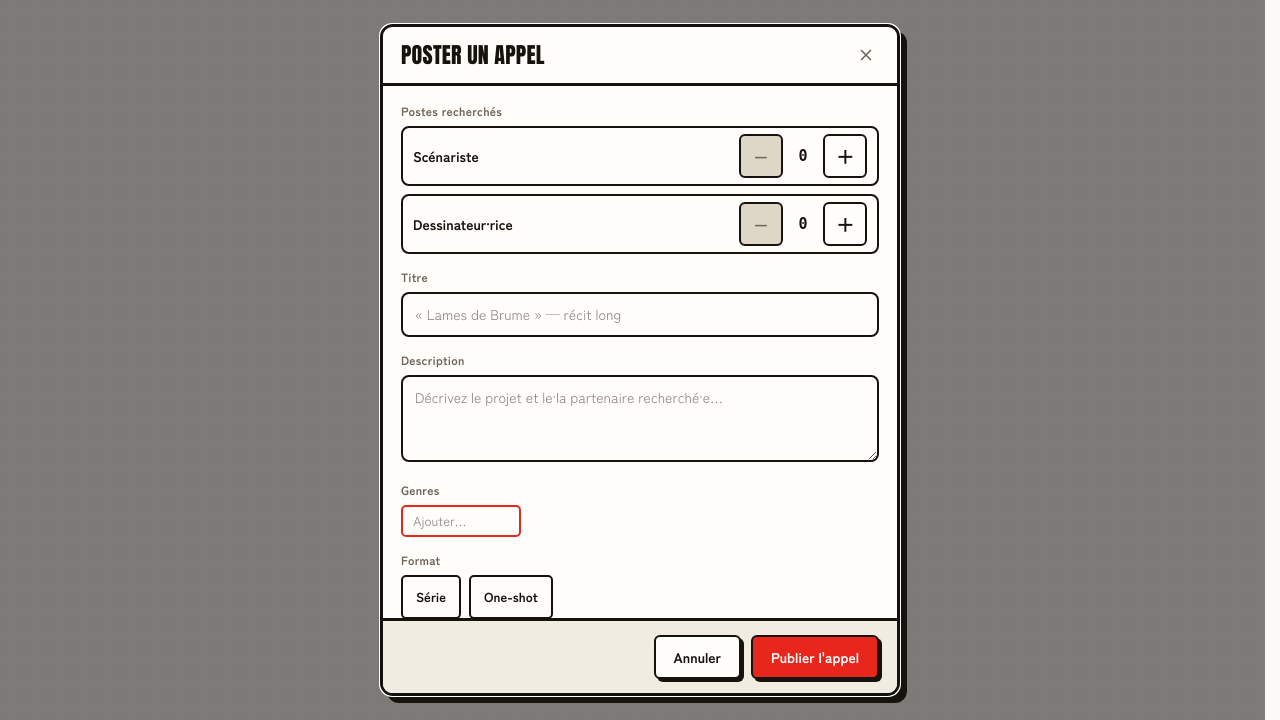
it: PostCallModal › validates required fields before submitting
Click the button "Publier l'appel".
click(815, 657)  # box [751,635,879,679]
(page scrolled)
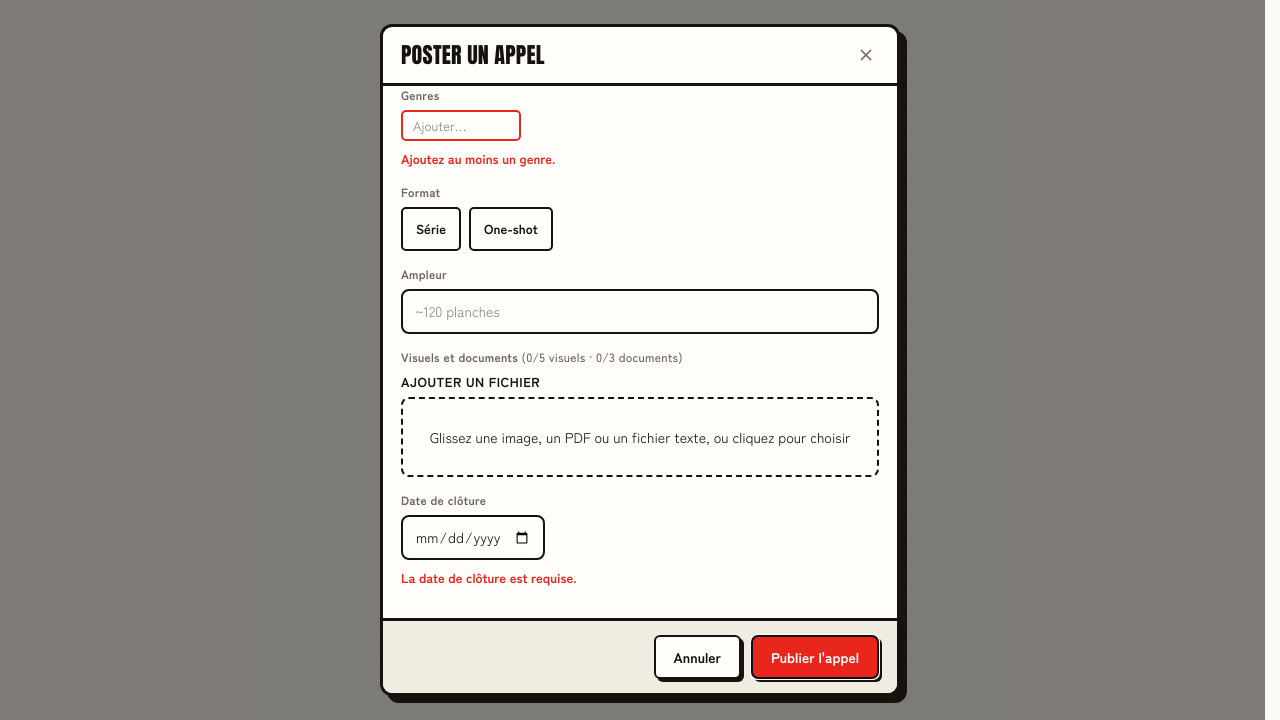
expect the text "La date de clôture est requise." is shown: met, box [401,568,577,587]
